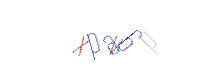6: (71, 0, 151, 80)
A: (64, 0, 144, 80)
P: (60, 0, 140, 80), (89, 0, 169, 80)
V: (70, 0, 150, 80)
X: (54, 0, 134, 80)
